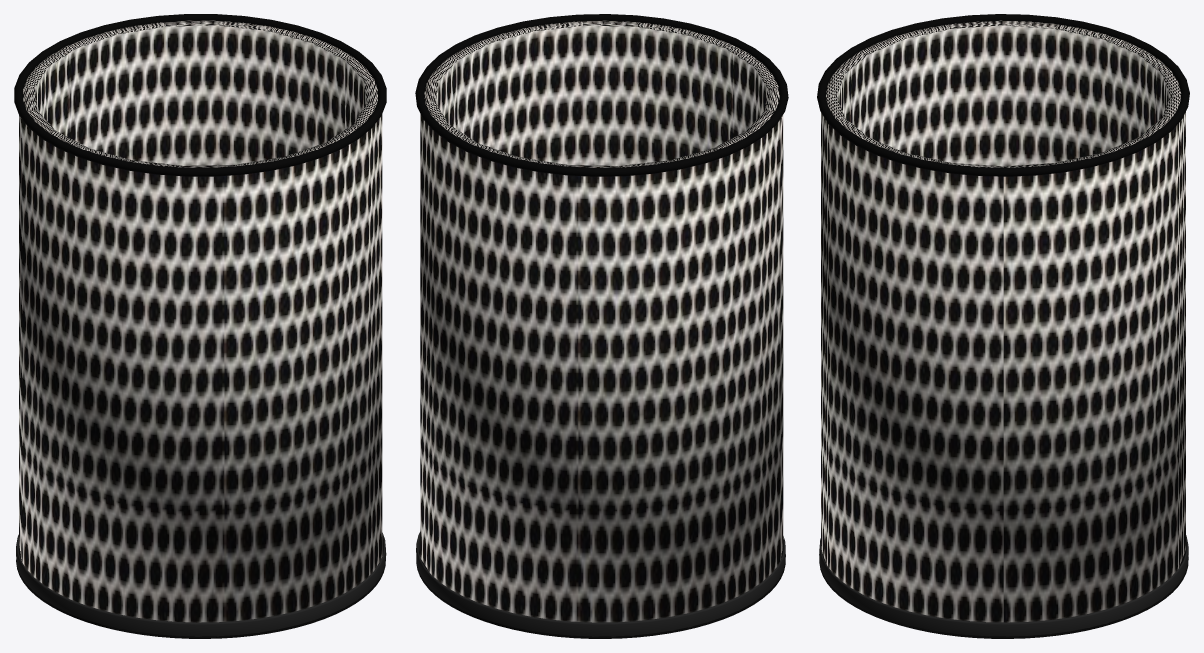
File: basuraTexturizadafbx.fbx
3 views of the same model, side by side, from view 1: azimuth 30°, elevation 25°; view 2: azimuth 150°, elevation 25°; view 3: azimuth 270°, elevation 25° (orthographic).
Parts seen in each view (by area): view 1: polySurface1; view 2: polySurface1; view 3: polySurface1.
Boxes of the visible parts, box(x1,y1,x2,y2) form: polySurface1: box(14, 14, 386, 638); polySurface1: box(415, 14, 788, 638); polySurface1: box(817, 14, 1189, 638).
Bounding box in the file's own units: 4.22 × 5.85 × 4.22.
Materials: 5 (1 with a texture image).
